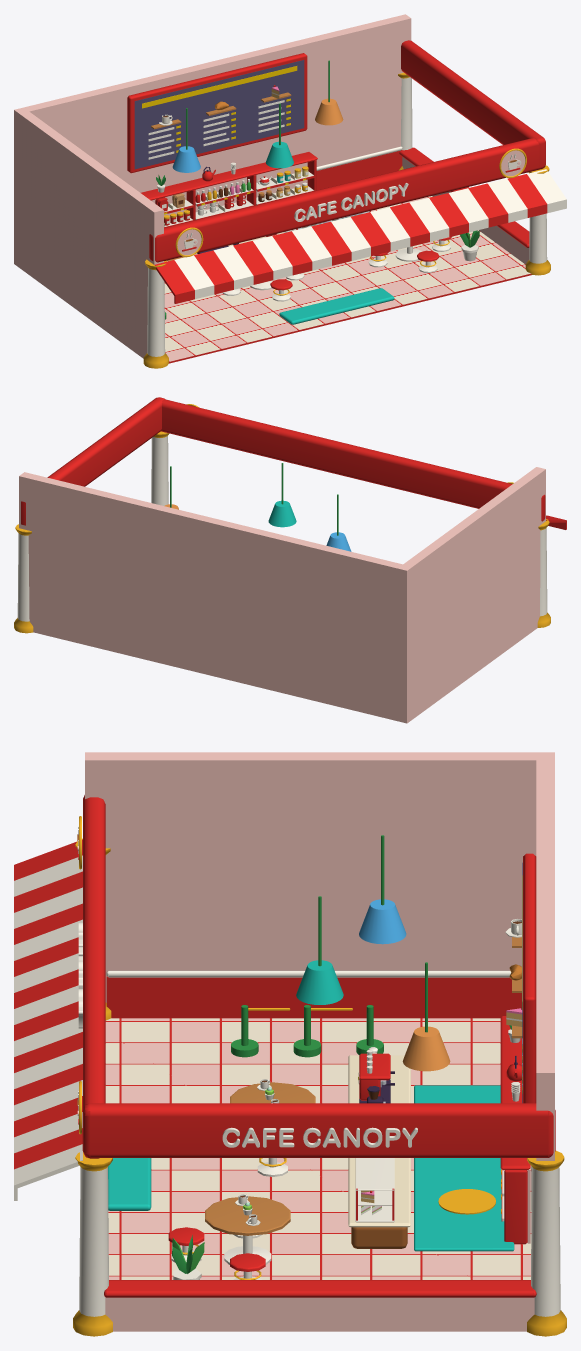
File: cafe_canopy.glb
3 renders of one model, top to bottom at view 1: azimuth 30°, elevation 25°; view 2: azimuth 150°, elevation 25°; view 3: azimuth 270°, elevation 25°, orthographic. The views are drawn at different scales.
Parts seen in each view (by area): view 1: Shop_Cafe_Front_Canopy, Shop_Cafe_Back_Wall, Shop_Cafe_Shell, Shop_Cafe_Side_Wall, M_Cafe_Backbar, Refined_Cafe_Entry_Mat, Cafe_Pendant_Shade_0, Cafe_Pendant_Shade_2, Cafe_Pendant_Shade_1; view 2: Shop_Cafe_Back_Wall, Shop_Cafe_Side_Wall, Shop_Cafe_Front_Canopy, Shop_Cafe_Shell, Cafe_Pendant_Shade_1; view 3: Shop_Cafe_Side_Wall, Shop_Cafe_Shell, Shop_Cafe_Front_Canopy, Cafe_Staff_Aisle, M_Cafe_Backbar, Shop_Cafe_Back_Wall, M_Cafe_Counter, Cafe_Counter_Top.001, Cafe_Table_Top_0, Refined_Cafe_Entry_Mat, Cafe_Pendant_Shade_1, Cafe_Pendant_Shade_0 (+6 smaller).
Boxes of the visible parts, <box> form: Shop_Cafe_Front_Canopy: <box>149,40,566,303</box>; Shop_Cafe_Back_Wall: <box>14,14,411,267</box>; Shop_Cafe_Shell: <box>143,72,550,368</box>; Shop_Cafe_Side_Wall: <box>19,111,163,358</box>; M_Cafe_Backbar: <box>127,53,317,227</box>; Refined_Cafe_Entry_Mat: <box>279,288,394,324</box>; Cafe_Pendant_Shade_0: <box>315,98,343,125</box>; Cafe_Pendant_Shade_2: <box>172,146,200,172</box>; Cafe_Pendant_Shade_1: <box>266,141,293,168</box>; Shop_Cafe_Back_Wall: <box>19,472,412,723</box>; Shop_Cafe_Side_Wall: <box>403,467,545,718</box>; Shop_Cafe_Front_Canopy: <box>21,397,566,529</box>; Shop_Cafe_Shell: <box>14,431,550,633</box>; Cafe_Pendant_Shade_1: <box>268,500,296,527</box>; Shop_Cafe_Side_Wall: <box>85,752,536,1018</box>; Shop_Cafe_Shell: <box>73,838,566,1336</box>; Shop_Cafe_Front_Canopy: <box>14,795,555,1200</box>; Cafe_Staff_Aisle: <box>414,1085,514,1251</box>; M_Cafe_Backbar: <box>500,853,536,1244</box>; Shop_Cafe_Back_Wall: <box>531,752,554,1210</box>; M_Cafe_Counter: <box>355,1047,394,1222</box>; Cafe_Counter_Top.001: <box>348,1055,410,1227</box>; Cafe_Table_Top_0: <box>205,1196,290,1264</box>; Refined_Cafe_Entry_Mat: <box>108,1158,151,1210</box>; Cafe_Pendant_Shade_1: <box>296,960,343,1004</box>; Cafe_Pendant_Shade_0: <box>402,1026,450,1071</box>.
Size of the model in its own units: 12.48 by 4.85 by 8.82.
Materials: 26 (1 with a texture image).
